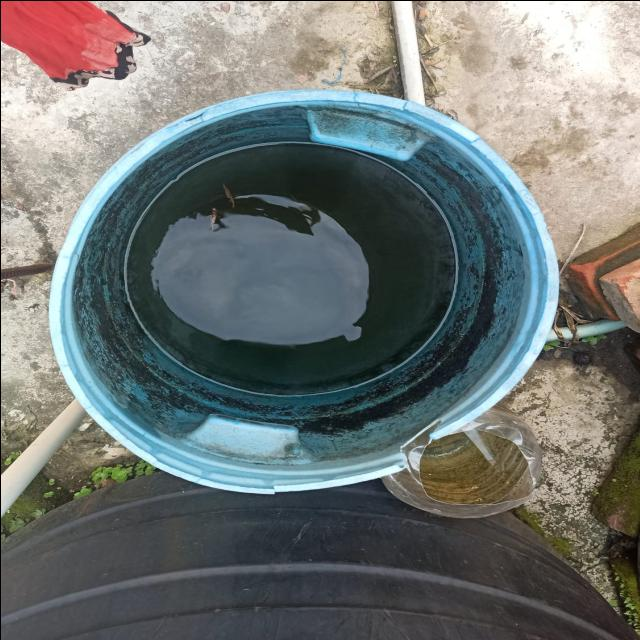Breeding Place: (23, 68, 568, 503), (354, 389, 582, 538)
